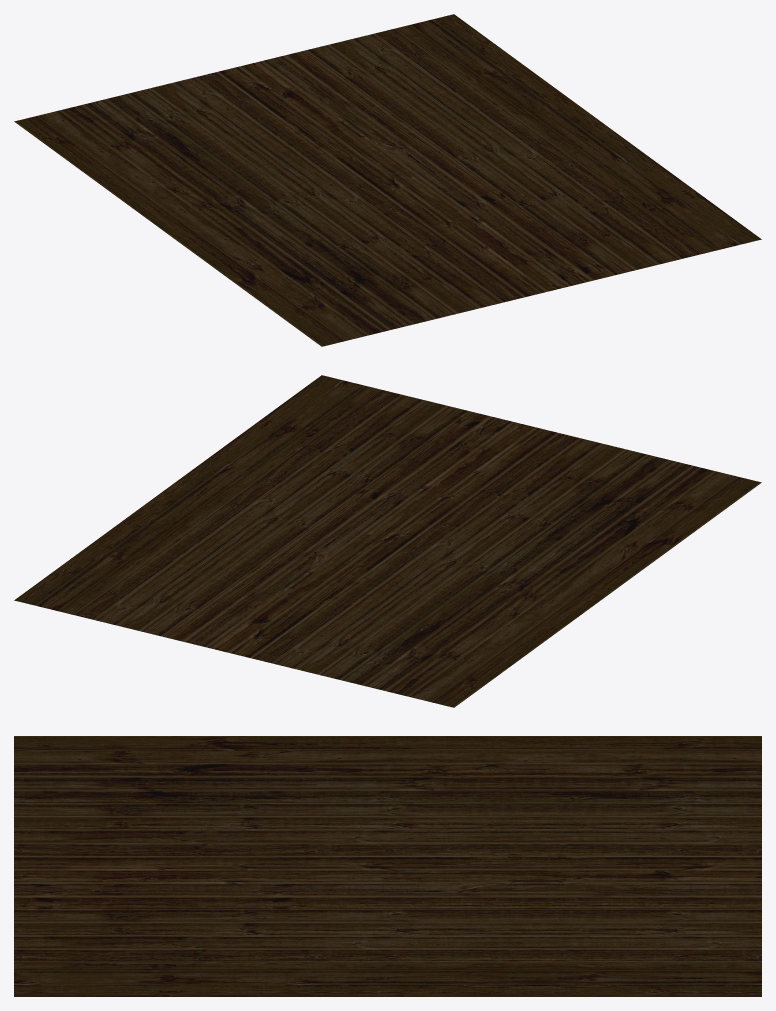
Rendered from vloer.fbx.
The picture shows the model from 3 angles, top to bottom: view 1: azimuth 30°, elevation 25°; view 2: azimuth 150°, elevation 25°; view 3: azimuth 270°, elevation 25°; orthographic projection. The views are drawn at different scales.
Parts seen in each view (by area): view 1: grond; view 2: grond; view 3: grond.
Part boxes in pixels (x1,y1,x2,y2): grond: (14, 14, 761, 346); grond: (14, 375, 761, 707); grond: (14, 736, 761, 996).
Bounding box in the file's own units: 42.14 × 2.96e-14 × 51.05.
Materials: 1 (1 with a texture image).
